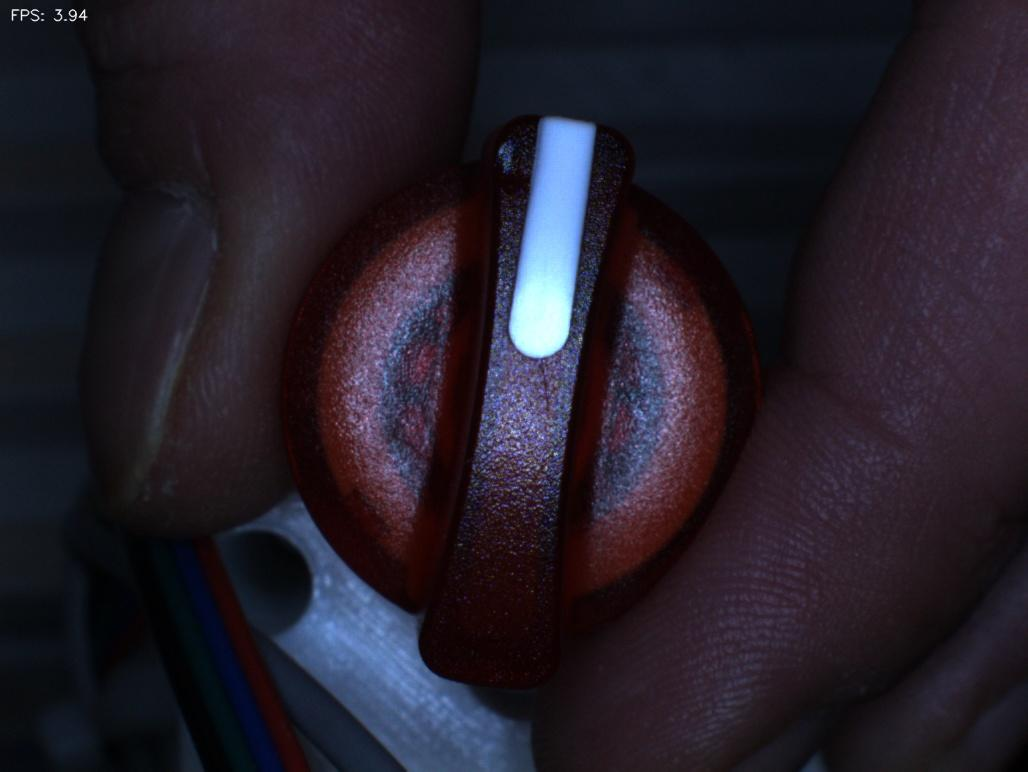Choc: (464, 117, 541, 195)
